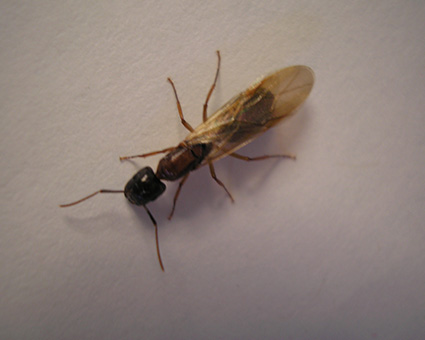flying termite: (54, 39, 344, 277)
